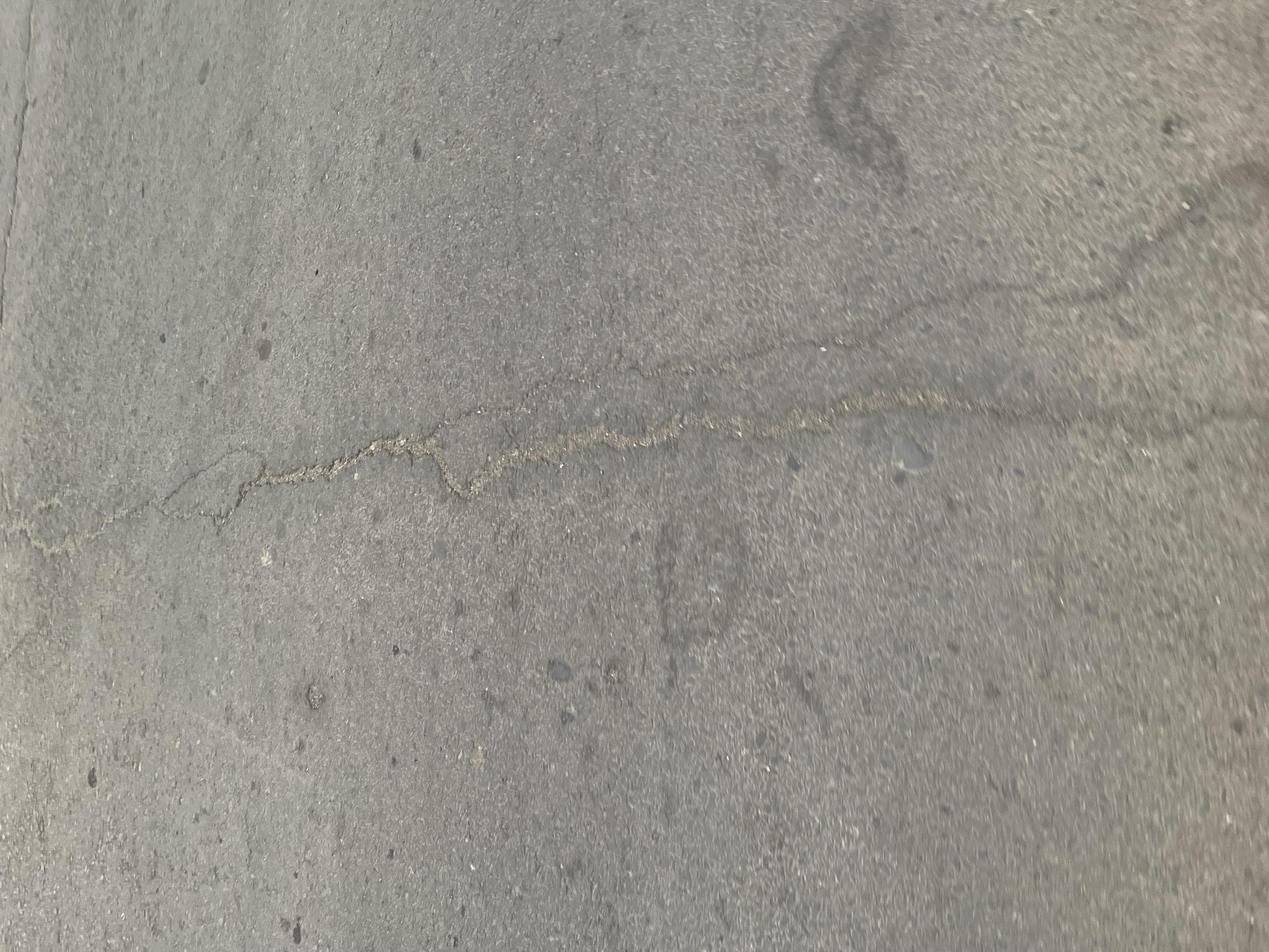GRIETA: (3, 166, 1269, 557), (430, 386, 1268, 502), (0, 0, 34, 323), (162, 445, 270, 502)
